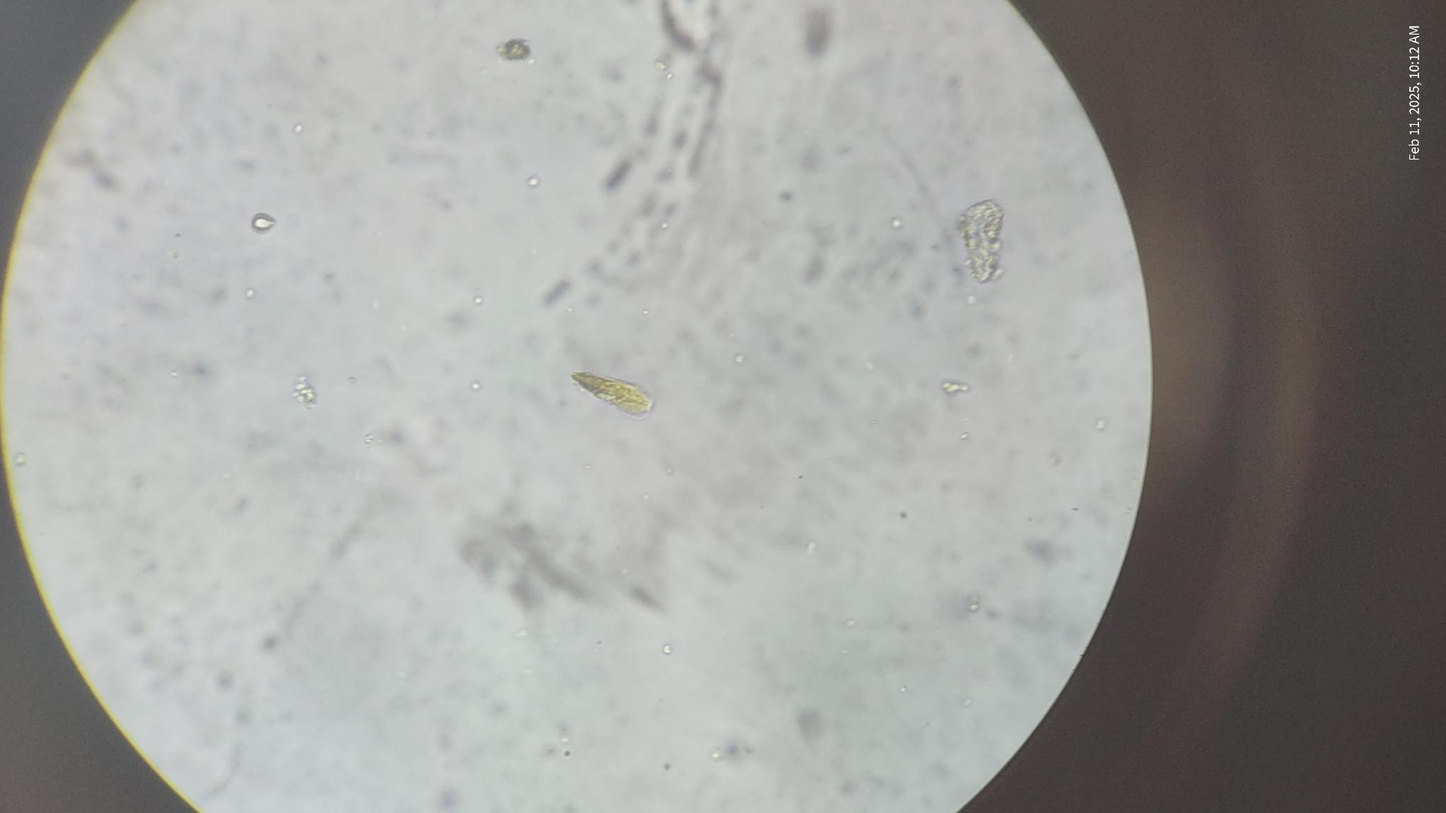Euglena: (379, 558, 454, 666)
